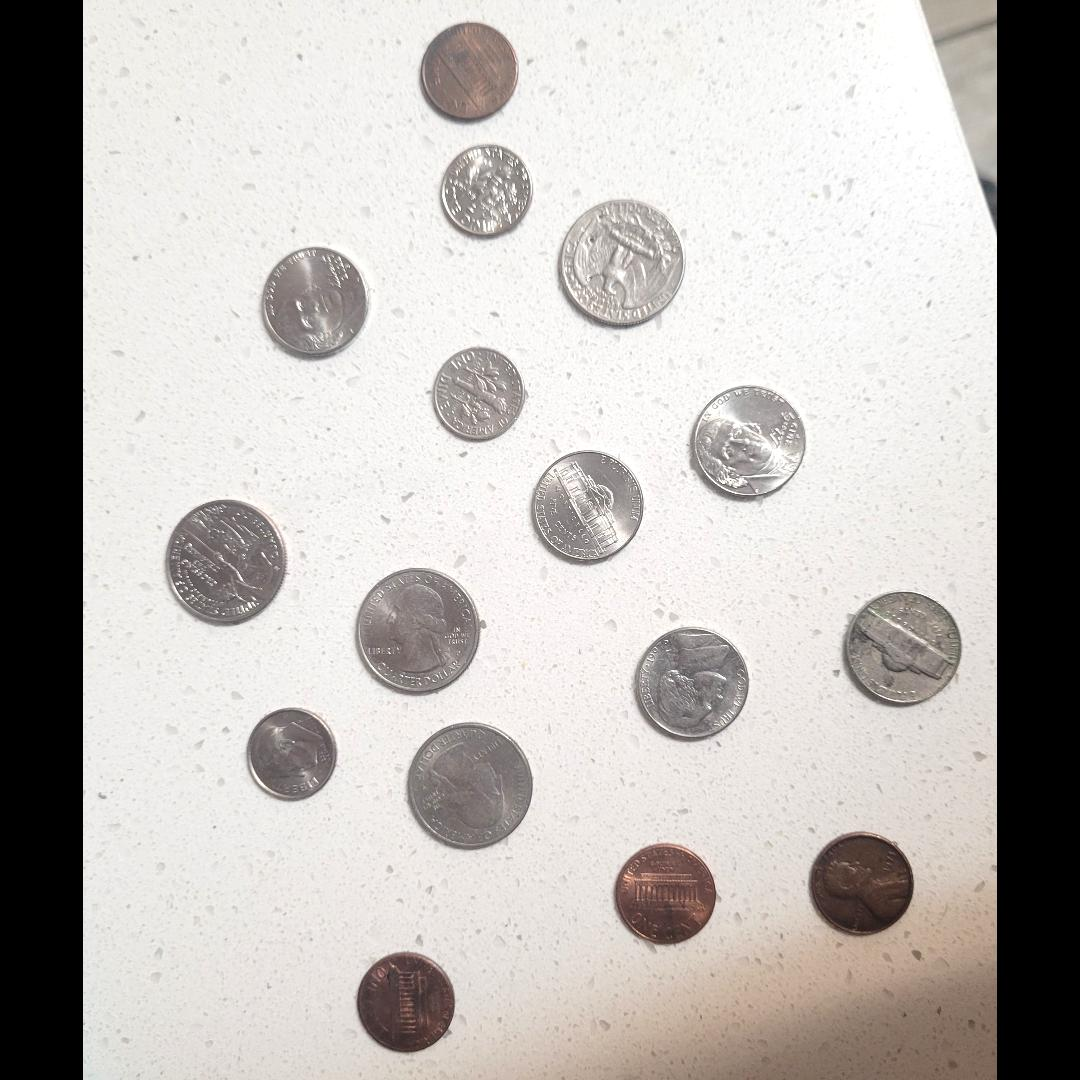Dime: (432, 344, 526, 444), (437, 142, 530, 242), (246, 704, 338, 805)
Nickel: (258, 246, 372, 364), (691, 380, 804, 498), (530, 448, 642, 566), (846, 590, 958, 708), (636, 625, 748, 743)
Penny: (354, 948, 460, 1052), (610, 840, 716, 944), (412, 20, 518, 123), (807, 830, 913, 932)
Quarter: (557, 195, 688, 329), (403, 718, 534, 852), (352, 567, 483, 701), (160, 496, 290, 630)
